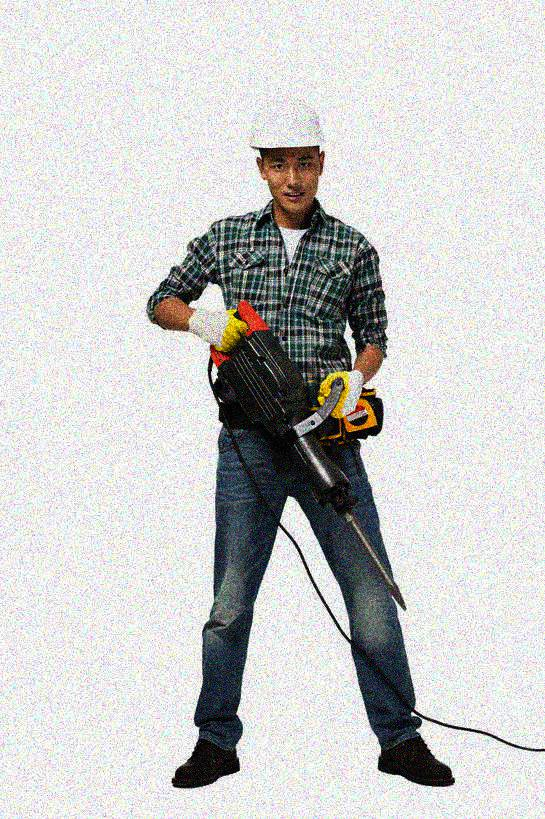helmet: (250, 91, 328, 215)
